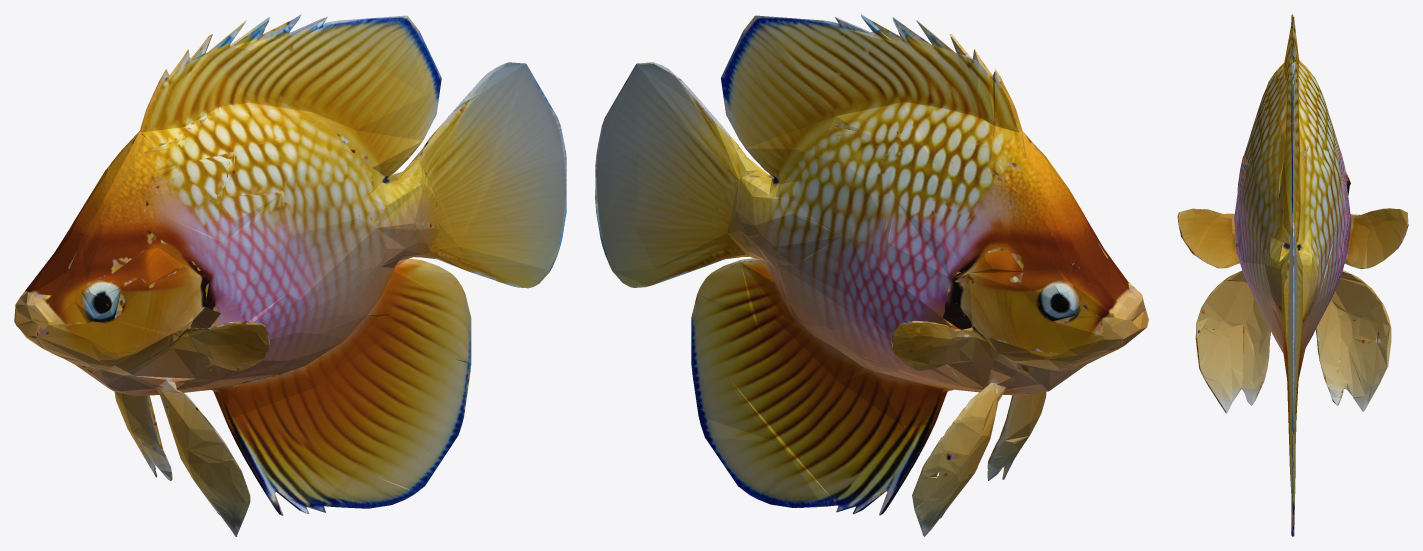
File: fish_0044_smpl23_resized.glb
3 renders of one model, left to right at view 1: azimuth 30°, elevation 25°; view 2: azimuth 150°, elevation 25°; view 3: azimuth 270°, elevation 25°, orthographic. The views are drawn at different scales.
Parts seen in each view (by area): view 1: world; view 2: world; view 3: world.
Part boxes in pixels (x1,y1,x2,y2): world: (14, 14, 566, 536); world: (595, 14, 1148, 536); world: (1177, 14, 1408, 536).
Bounding box in the file's own units: 1.99 × 1.81 × 0.8488.
1 material, 1 textured.
